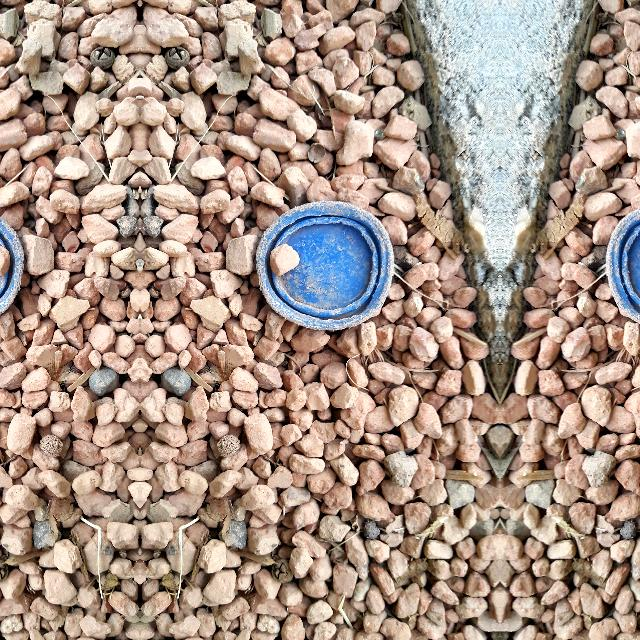Plastic: (245, 194, 412, 338), (587, 194, 640, 338), (0, 194, 34, 338)
